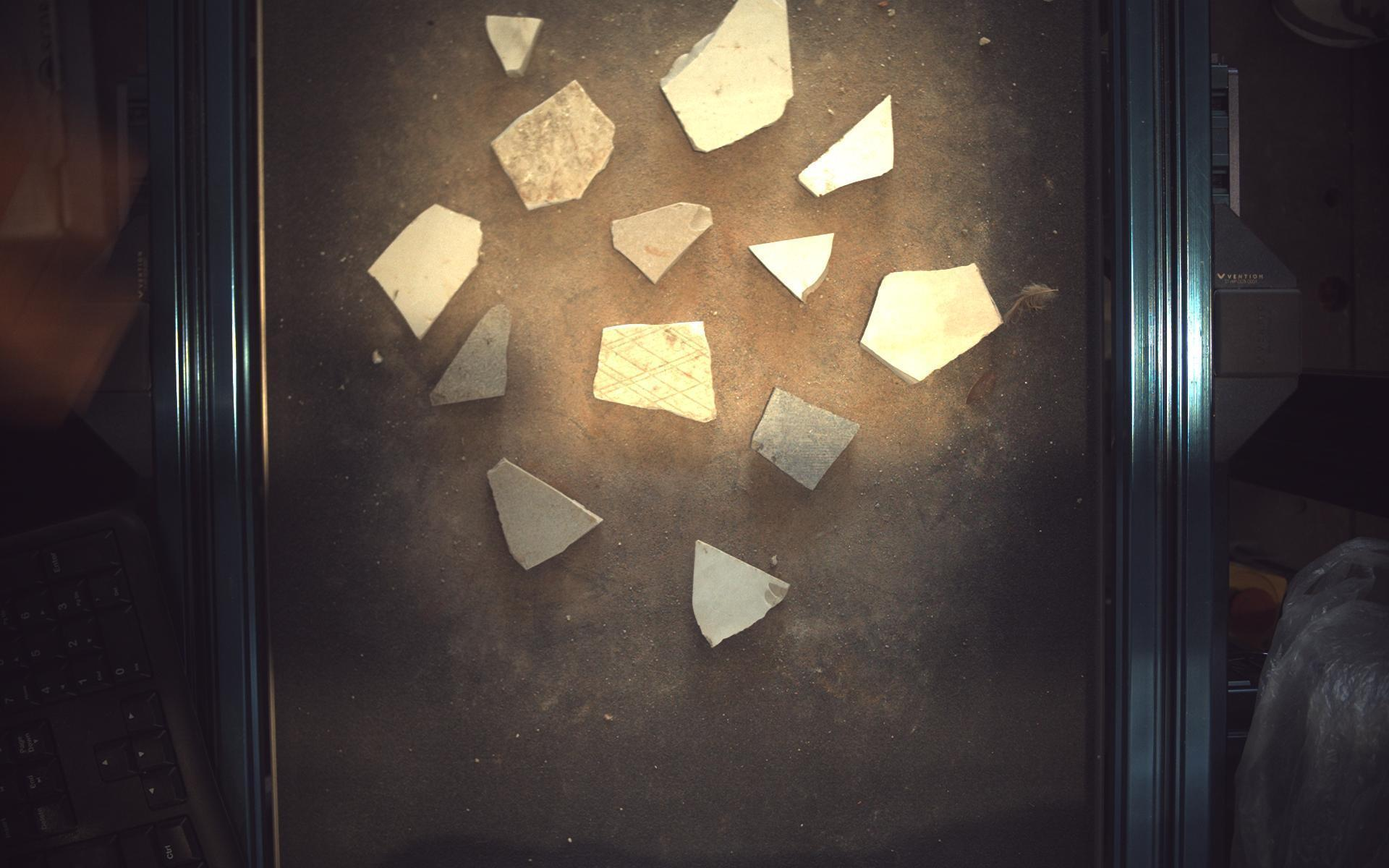tile: (662, 1, 794, 151), (862, 263, 1005, 384), (491, 79, 614, 209), (368, 203, 483, 339), (488, 459, 603, 570), (594, 321, 718, 422), (752, 388, 861, 490), (694, 540, 791, 648), (799, 94, 896, 195), (613, 201, 713, 283), (430, 305, 511, 406), (750, 233, 835, 302), (486, 14, 543, 77)
